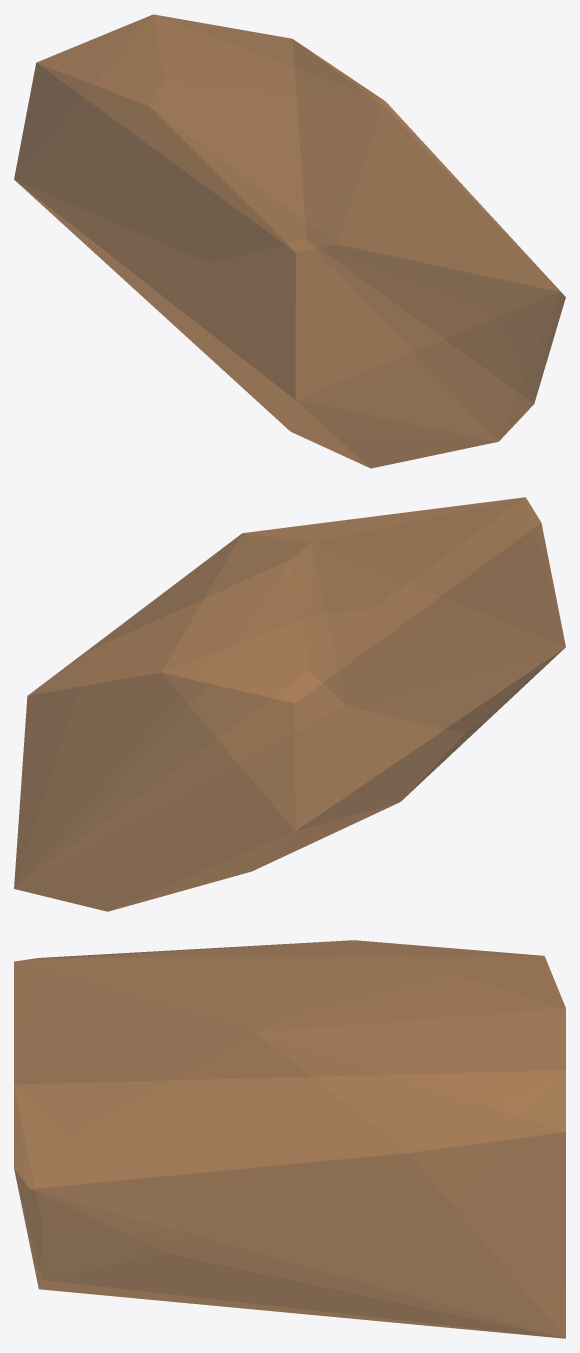
3 views of the same model, one above another, from view 1: azimuth 30°, elevation 25°; view 2: azimuth 150°, elevation 25°; view 3: azimuth 270°, elevation 25° (orthographic). The views are drawn at different scales.
Visible parts, largest first — view 1: Shape_IndexedFaceSet.030_Shape_IndexedFaceSet.4376; view 2: Shape_IndexedFaceSet.030_Shape_IndexedFaceSet.4376; view 3: Shape_IndexedFaceSet.030_Shape_IndexedFaceSet.4376.
Part boxes in pixels (box(x1,y1,x2,y2)): Shape_IndexedFaceSet.030_Shape_IndexedFaceSet.4376: box(14, 14, 565, 468); Shape_IndexedFaceSet.030_Shape_IndexedFaceSet.4376: box(14, 497, 565, 911); Shape_IndexedFaceSet.030_Shape_IndexedFaceSet.4376: box(14, 940, 565, 1338).
Size of the model in its own units: 0.1342 by 0.1218 by 0.2237.
